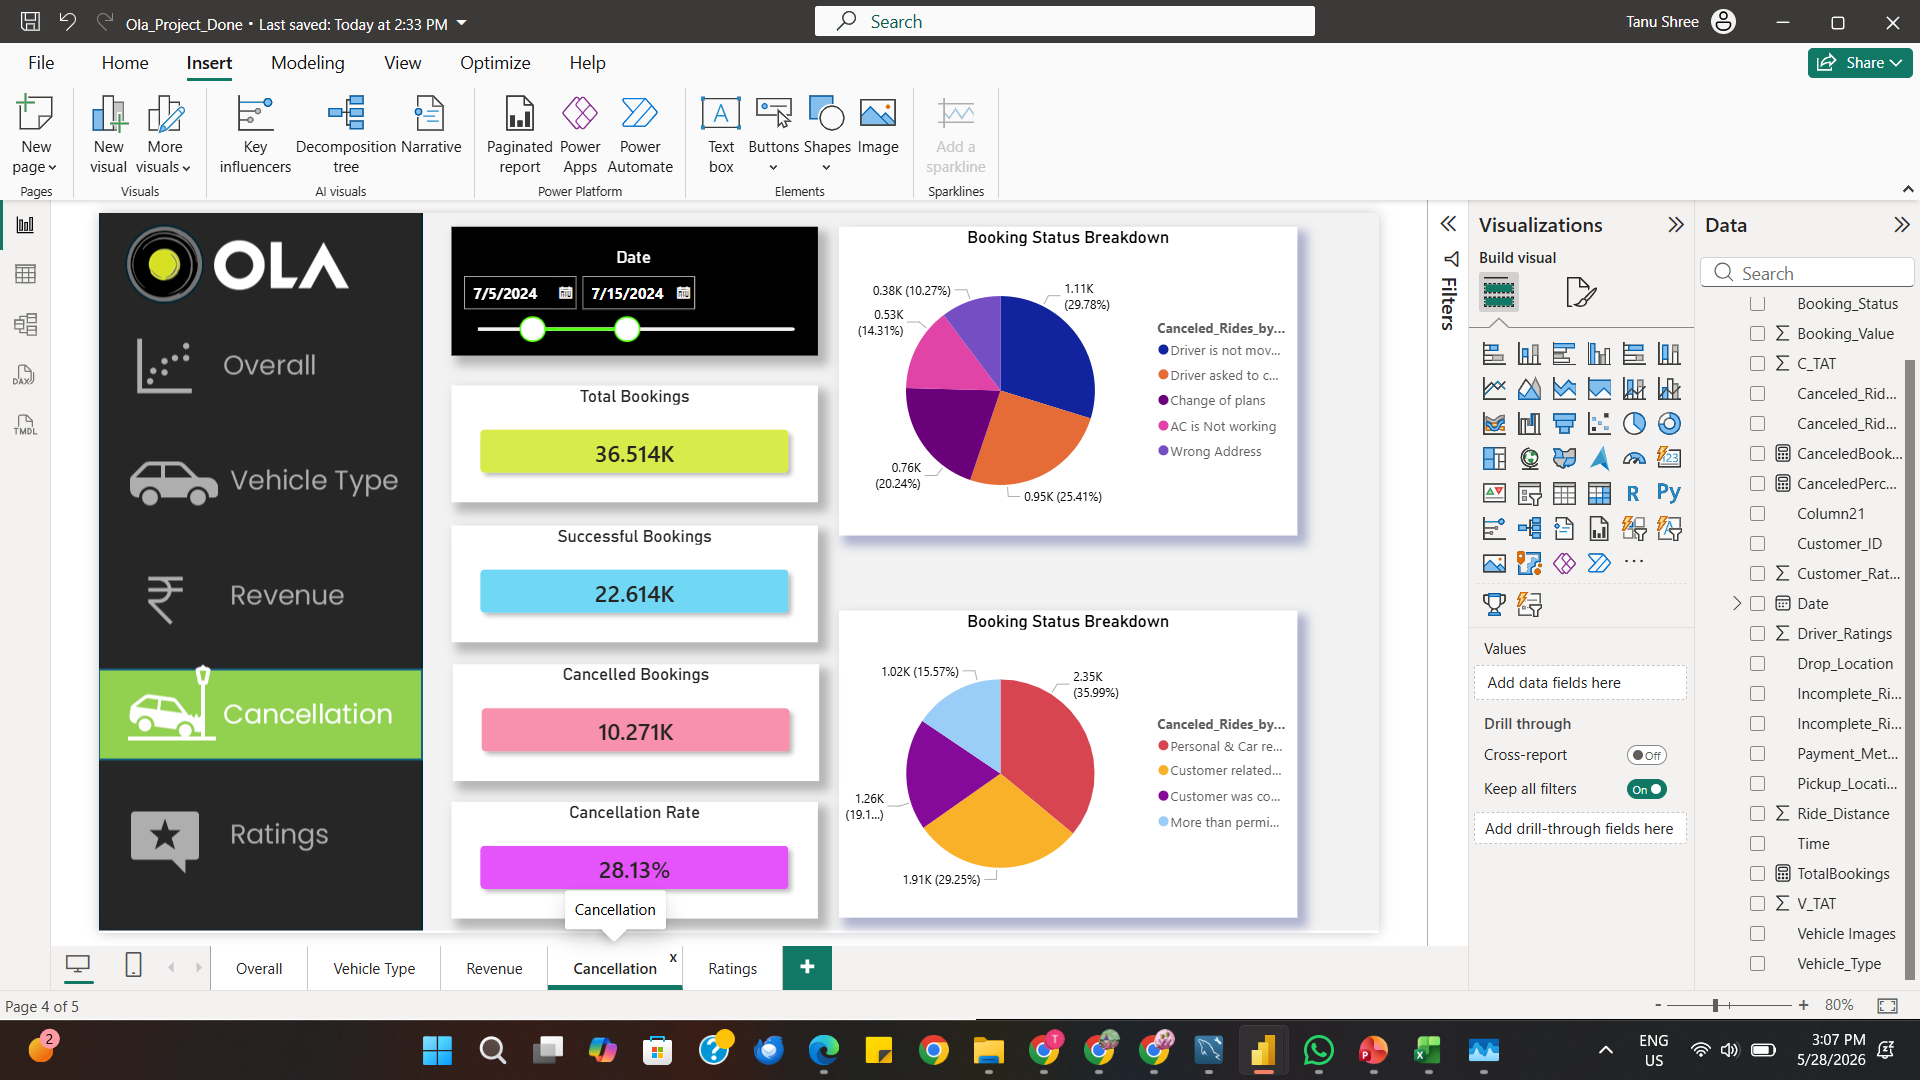

The page's visual inventory and layout, read from the dashboard file:
{"tool":"powerbi","page":{"name":"Cancellation","canvas":[1280,720],"ordinal":3},"visuals":[{"type":"actionButton","box":[0,228,325.7,94.1],"z":0},{"type":"actionButton","box":[0,108.6,325.7,94.1],"z":1000},{"type":"actionButton","box":[0,339,325.7,90.5],"z":2000},{"type":"actionButton","box":[0,581.5,325.7,90.5],"z":3000},{"type":"pieChart","title":"Booking Status Breakdown","fields":{"Category":["July.Canceled_Rides_by_Customer"],"Y":["CountNonNull(July.Canceled_Rides_by_Customer)"]},"box":[739.6,13.7,458.3,308.7],"z":3001},{"type":"pieChart","title":"Booking Status Breakdown","fields":{"Category":["July.Canceled_Rides_by_Driver"],"Y":["CountNonNull(July.Canceled_Rides_by_Driver)"]},"box":[739.6,397.9,458.3,307.4],"z":3002},{"type":"slicer","title":"Date","fields":{"Values":["July.Date"]},"box":[352.7,13.7,366.4,129],"z":3003},{"type":"cardVisual","title":"Total Bookings","fields":{"Data":["Count(July.Booking_ID)"]},"box":[352.7,172.9,366.4,116.6],"z":3004},{"type":"cardVisual","title":"Successful Bookings","fields":{"Data":["Count(July.Booking_ID)"]},"box":[352.7,312.9,366.4,116.6],"z":3005},{"type":"cardVisual","title":"Cancelled Bookings","fields":{"Data":["Count(July.Booking_ID)"]},"box":[354,451.5,366.4,116.6],"z":3006},{"type":"cardVisual","title":"Cancellation Rate","fields":{"Data":["July.CanceledPercentage"]},"box":[352.7,588.7,366.4,116.6],"z":3007}]}

Visuals, with their boxes on the page's 1280x720 design canvas (x1, y1, x2, y2). These are canvas units, not pixel positions in the 1920x1080 screenshot, which may show the page scaled, cropped or inside an application window:
actionButton: bbox(0, 228, 326, 322)
actionButton: bbox(0, 109, 326, 203)
actionButton: bbox(0, 339, 326, 430)
actionButton: bbox(0, 582, 326, 672)
"Booking Status Breakdown" pieChart: bbox(740, 14, 1198, 322)
"Booking Status Breakdown" pieChart: bbox(740, 398, 1198, 705)
"Date" slicer: bbox(353, 14, 719, 143)
"Total Bookings" cardVisual: bbox(353, 173, 719, 290)
"Successful Bookings" cardVisual: bbox(353, 313, 719, 430)
"Cancelled Bookings" cardVisual: bbox(354, 452, 720, 568)
"Cancellation Rate" cardVisual: bbox(353, 589, 719, 705)
